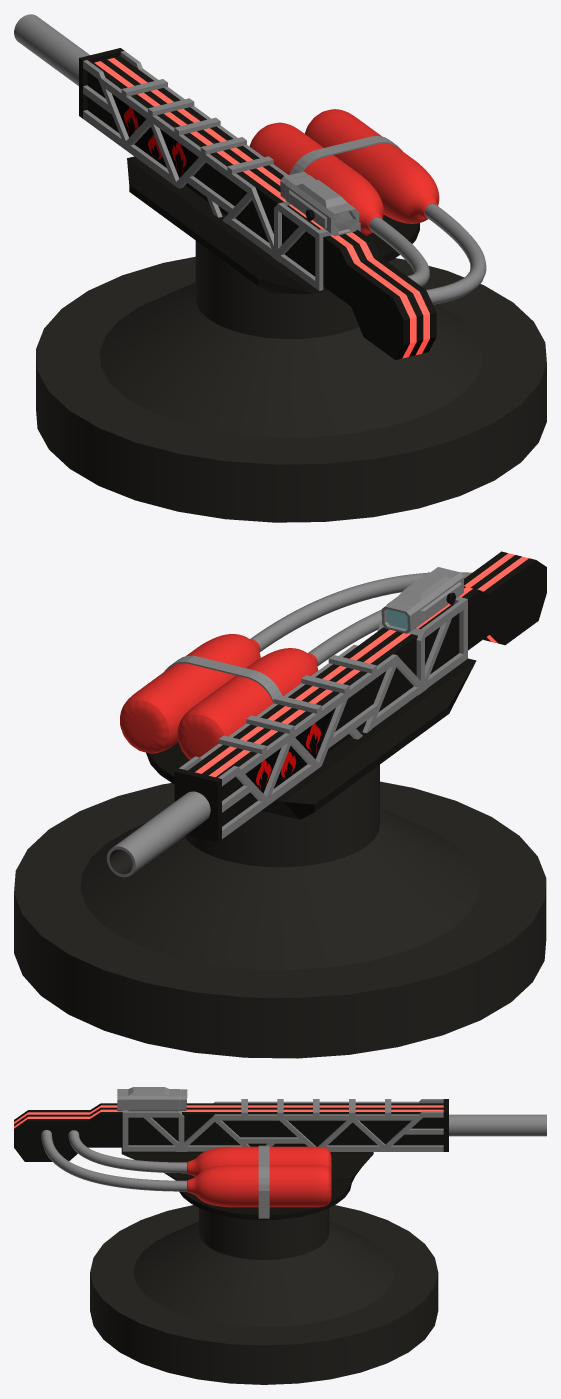
File: sniper_L2.fbx
The picture shows the model from 3 angles, top to bottom: view 1: azimuth 30°, elevation 25°; view 2: azimuth 150°, elevation 25°; view 3: azimuth 270°, elevation 25°; orthographic projection. The views are drawn at different scales.
Parts seen in each view (by area): view 1: Circle, Cube, Cylinder.006, Cylinder.002, Circle.002, scope, Circle.003, NurbsPath.002, Plane.003, NurbsPath.001, Plane.004; view 2: Circle, Cube, Cylinder.006, Cylinder.002, Circle.002, Circle.003, scope, NurbsPath.002, Plane.003, NurbsPath.001, Plane.004; view 3: Circle, Cube, Cylinder.006, Cylinder.002, Circle.002, Circle.003, NurbsPath.002, scope, NurbsPath.001, Plane.004, Plane.003.
Boxes of the visible parts, x1,y1,x2,y2 form: Circle: (36,241,546,522); Cube: (79,48,436,360); Cylinder.006: (249,109,439,235); Cylinder.002: (83,62,360,290); Circle.002: (127,156,419,293); scope: (280,171,359,236); Circle.003: (14,14,89,85); NurbsPath.002: (424,203,486,304); Plane.003: (121,79,273,173); NurbsPath.001: (369,217,429,286); Plane.004: (289,136,402,174); Circle: (14,765,546,1058); Cube: (174,551,546,842); Cylinder.006: (120,634,318,759); Cylinder.002: (199,596,467,838); Circle.002: (146,658,476,819); Circle.003: (106,791,210,877); scope: (381,567,463,633); NurbsPath.002: (250,572,471,651); Plane.003: (218,655,376,753); NurbsPath.001: (308,610,381,665); Plane.004: (164,655,282,703); Circle: (90,1205,438,1384); Cube: (14,1099,448,1161); Cylinder.006: (187,1146,331,1207); Cylinder.002: (122,1099,443,1151); Circle.002: (121,1147,373,1220); Circle.003: (449,1114,546,1136); NurbsPath.002: (41,1130,186,1191); scope: (117,1087,187,1111); NurbsPath.001: (68,1130,186,1173); Plane.004: (258,1145,269,1218); Plane.003: (241,1099,391,1115).
Bounding box in the file's own units: 160 × 103 × 245.
